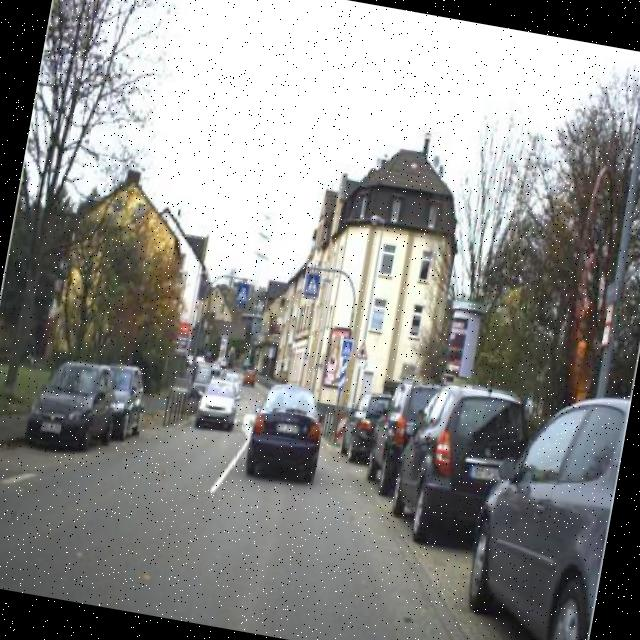Przejscie dla pieszych: (301, 268, 323, 300), (232, 278, 252, 306), (339, 338, 355, 360)
